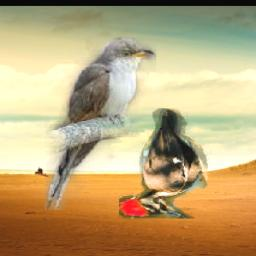Cuckoo: (43, 38, 155, 211)
Woodpecker: (118, 108, 210, 219)
